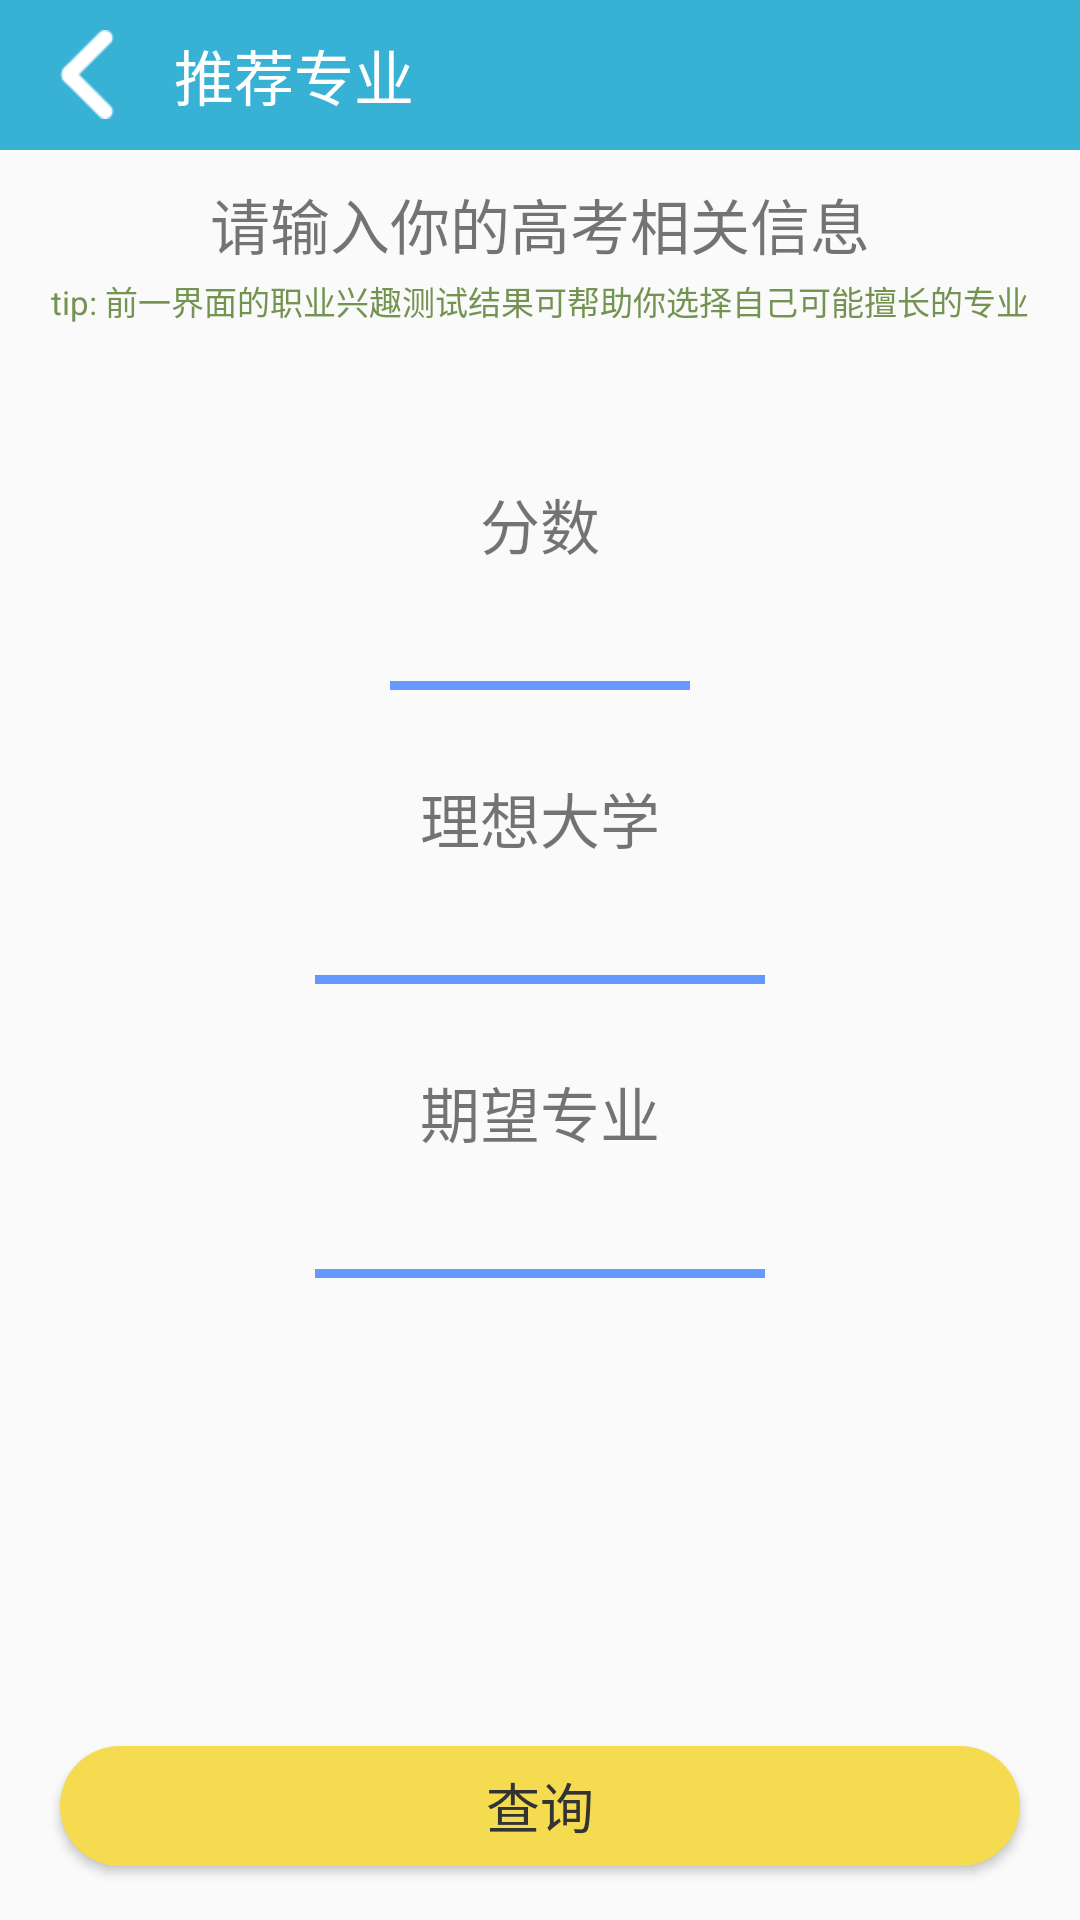

Locate icon controls on the screen. Image size 1080 x 1920, boxes as BBox(x1, y1, x2, y2).
fanhui: BBox(60, 30, 114, 119)
